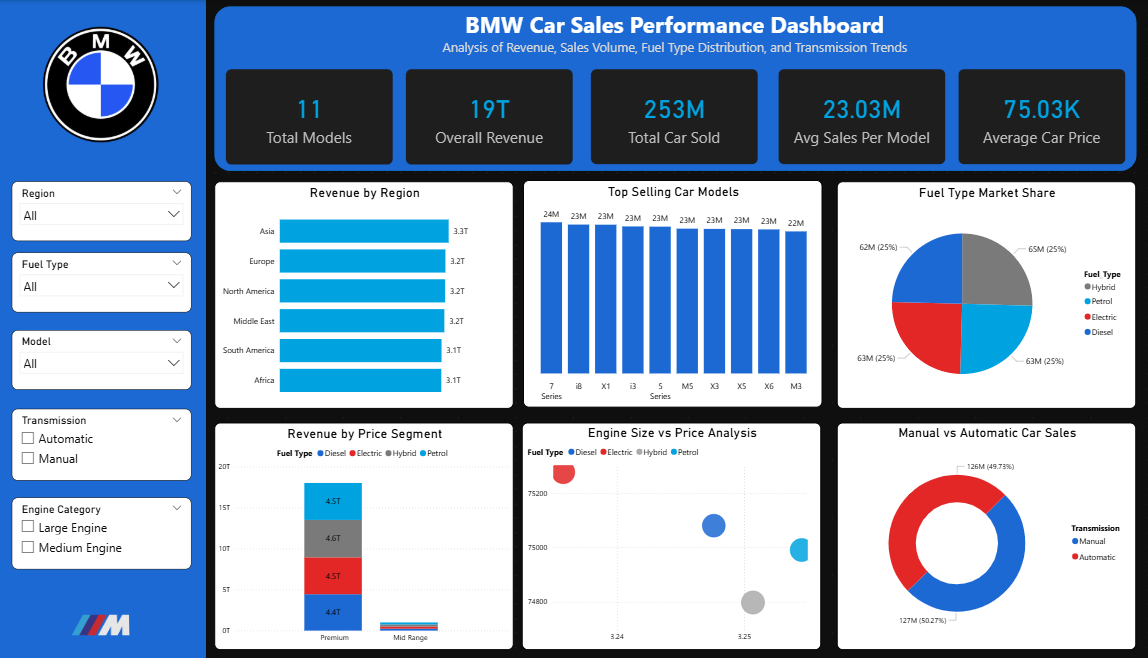

Layout of this report page (visuals, bound fields, positions):
{"tool":"powerbi","page":{"name":"Final Output","canvas":[1920,1100],"ordinal":1},"visuals":[{"type":"shape","box":[0,0,347,1200],"z":0},{"type":"shape","box":[360,10,1540,275],"z":1000},{"type":"barChart","title":"Revenue by Region","fields":{"Category":["BMW_Car_Sales_Classification.Region"],"Y":["Sum(BMW_Car_Sales_Classification.Total Revenue)"]},"box":[360,302.5,500,380],"z":2000},{"type":"columnChart","title":"Revenue by Price Segment","fields":{"Series":["BMW_Car_Sales_Classification.Fuel_Type"],"Category":["BMW_Car_Sales_Classification.Price Category"],"Y":["Sum(BMW_Car_Sales_Classification.Total Revenue)"]},"box":[360,705,500,380],"z":3000},{"type":"columnChart","title":"Top Selling Car Models","fields":{"Category":["BMW_Car_Sales_Classification.Model"],"Y":["Sum(BMW_Car_Sales_Classification.Sales_Volume)"]},"box":[875.7,301.4,500,380],"z":4000},{"type":"pieChart","title":"Fuel Type Market Share","fields":{"Category":["BMW_Car_Sales_Classification.Fuel_Type"],"Y":["Sum(BMW_Car_Sales_Classification.Sales_Volume)"]},"box":[1400,302.5,500,380],"z":5000},{"type":"scatterChart","title":"Engine Size vs Price Analysis","fields":{"X":["Avg(BMW_Car_Sales_Classification.Engine_Size_L)"],"Size":["Sum(BMW_Car_Sales_Classification.Sales_Volume)"],"Series":["BMW_Car_Sales_Classification.Fuel_Type"],"Y":["Avg(BMW_Car_Sales_Classification.Price_USD)"]},"box":[875,705,500,380],"z":6000},{"type":"donutChart","title":"Manual vs Automatic Car Sales","fields":{"Category":["BMW_Car_Sales_Classification.Transmission"],"Y":["Sum(BMW_Car_Sales_Classification.Sales_Volume)"]},"box":[1400,705,500,380],"z":7000},{"type":"image","box":[75,37.5,192.5,207.5],"z":8000},{"type":"textbox","box":[361,4.2,1538.1,110.6],"z":9000},{"type":"card","fields":{"Values":["BMW_Car_Sales_Classification.Total Models"]},"box":[379.8,115,279.7,160.7],"z":10000},{"type":"card","fields":{"Values":["BMW_Car_Sales_Classification.Overall Revenue"]},"box":[680.3,115,279.7,160.7],"z":11000},{"type":"card","fields":{"Values":["BMW_Car_Sales_Classification.Total Car Sold"]},"box":[990,115,280,160],"z":12000},{"type":"card","fields":{"Values":["BMW_Car_Sales_Classification.Average Car Price"]},"box":[1602.5,115,280,160],"z":13000},{"type":"card","fields":{"Values":["BMW_Car_Sales_Classification.Avg Sales Per Model"]},"box":[1302.5,115,280,160],"z":14000},{"type":"slicer","fields":{"Values":["BMW_Car_Sales_Classification.Region"]},"box":[22.5,302.5,300,100],"z":15000},{"type":"slicer","fields":{"Values":["BMW_Car_Sales_Classification.Fuel_Type"]},"box":[22.5,422.5,300,100],"z":16000},{"type":"slicer","fields":{"Values":["BMW_Car_Sales_Classification.Transmission"]},"box":[22.5,682.5,300,120],"z":17000},{"type":"slicer","fields":{"Values":["BMW_Car_Sales_Classification.Engine Category"]},"box":[22.5,830,300,120],"z":18000},{"type":"image","box":[97.5,990,150,110],"z":19000},{"type":"slicer","fields":{"Values":["BMW_Car_Sales_Classification.Model"]},"box":[22.5,550,300,100],"z":20000}]}

Visuals, with their boxes in screenshot pixels (x1, y1, x2, y2), scaled from the page's 1920x1100 canvas onto the 1148x658 screenshot:
shape: box(0, 0, 207, 657)
shape: box(215, 6, 1136, 170)
"Revenue by Region" barChart: box(215, 181, 514, 408)
"Revenue by Price Segment" columnChart: box(215, 422, 514, 649)
"Top Selling Car Models" columnChart: box(524, 180, 823, 408)
"Fuel Type Market Share" pieChart: box(837, 181, 1136, 408)
"Engine Size vs Price Analysis" scatterChart: box(523, 422, 822, 649)
"Manual vs Automatic Car Sales" donutChart: box(837, 422, 1136, 649)
image: box(45, 22, 160, 147)
textbox: box(216, 3, 1136, 69)
card - BMW_Car_Sales_Classification.Total Models: box(227, 69, 394, 165)
card - BMW_Car_Sales_Classification.Overall Revenue: box(407, 69, 574, 165)
card - BMW_Car_Sales_Classification.Total Car Sold: box(592, 69, 759, 164)
card - BMW_Car_Sales_Classification.Average Car Price: box(958, 69, 1126, 164)
card - BMW_Car_Sales_Classification.Avg Sales Per Model: box(779, 69, 946, 164)
slicer - BMW_Car_Sales_Classification.Region: box(13, 181, 193, 241)
slicer - BMW_Car_Sales_Classification.Fuel_Type: box(13, 253, 193, 313)
slicer - BMW_Car_Sales_Classification.Transmission: box(13, 408, 193, 480)
slicer - BMW_Car_Sales_Classification.Engine Category: box(13, 496, 193, 568)
image: box(58, 592, 148, 657)
slicer - BMW_Car_Sales_Classification.Model: box(13, 329, 193, 389)
